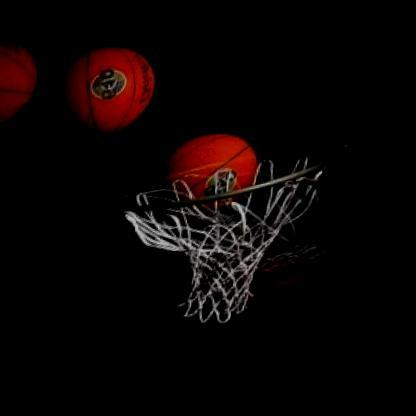basketball: (156, 127, 273, 238), (52, 36, 163, 153), (0, 24, 46, 136)
